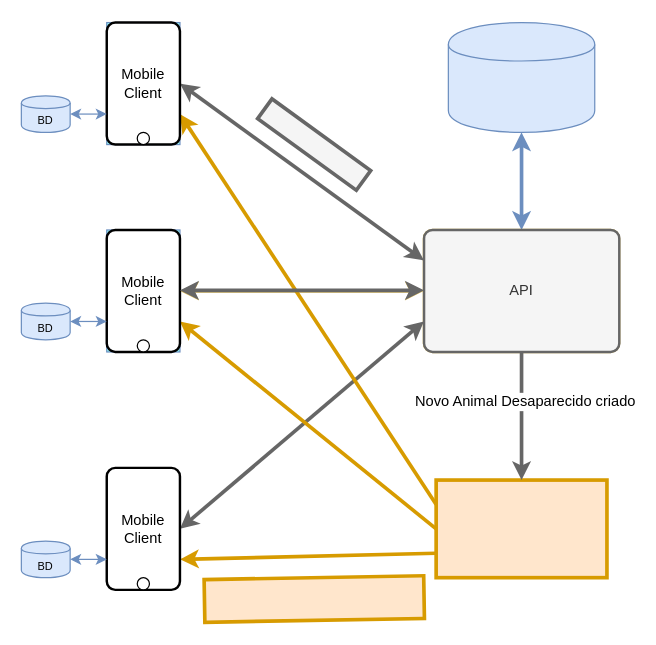
This 656x645 diagram has some shape labels left out. Here are the shapes that lost their labels. From the top down, the box of each, then its label:
(447, 21, 595, 132): BD paws4adoption
(254, 96, 373, 192): REST
(434, 478, 608, 579): MOSQUITTO
(202, 573, 426, 624): Notificar novo animal desaparecido
